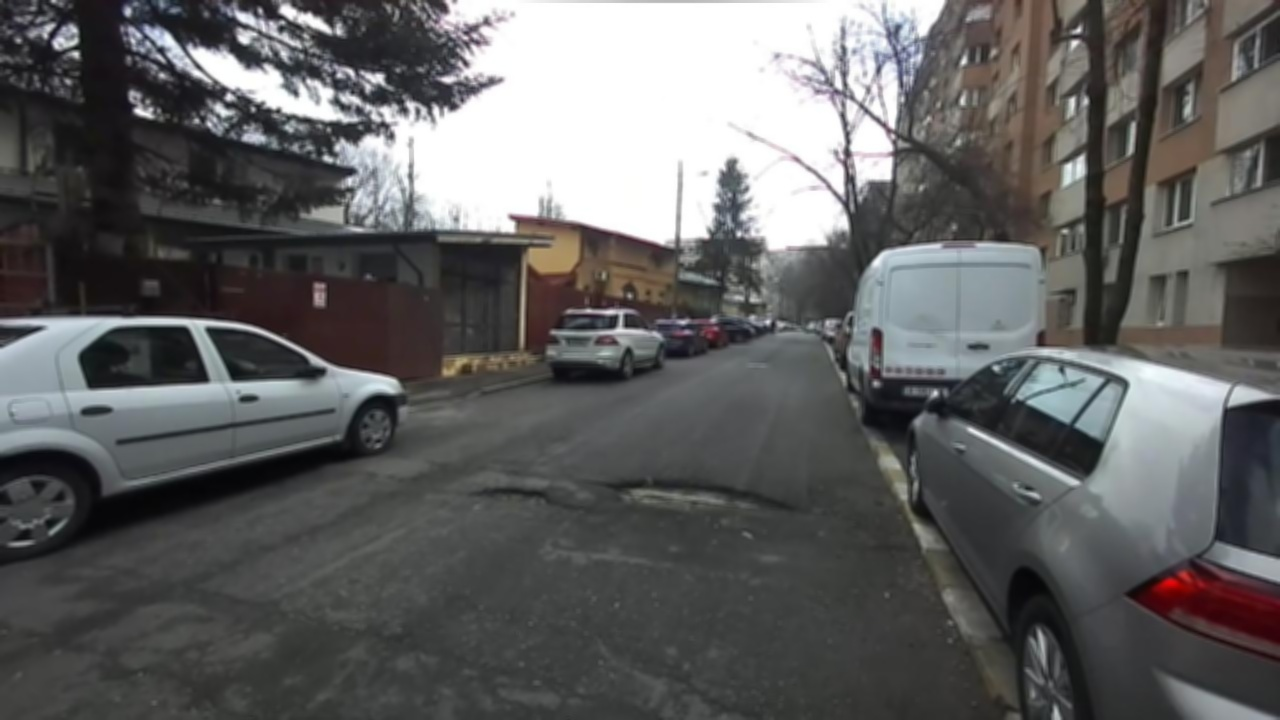pothole: (589, 471, 804, 520), (465, 481, 584, 514)
